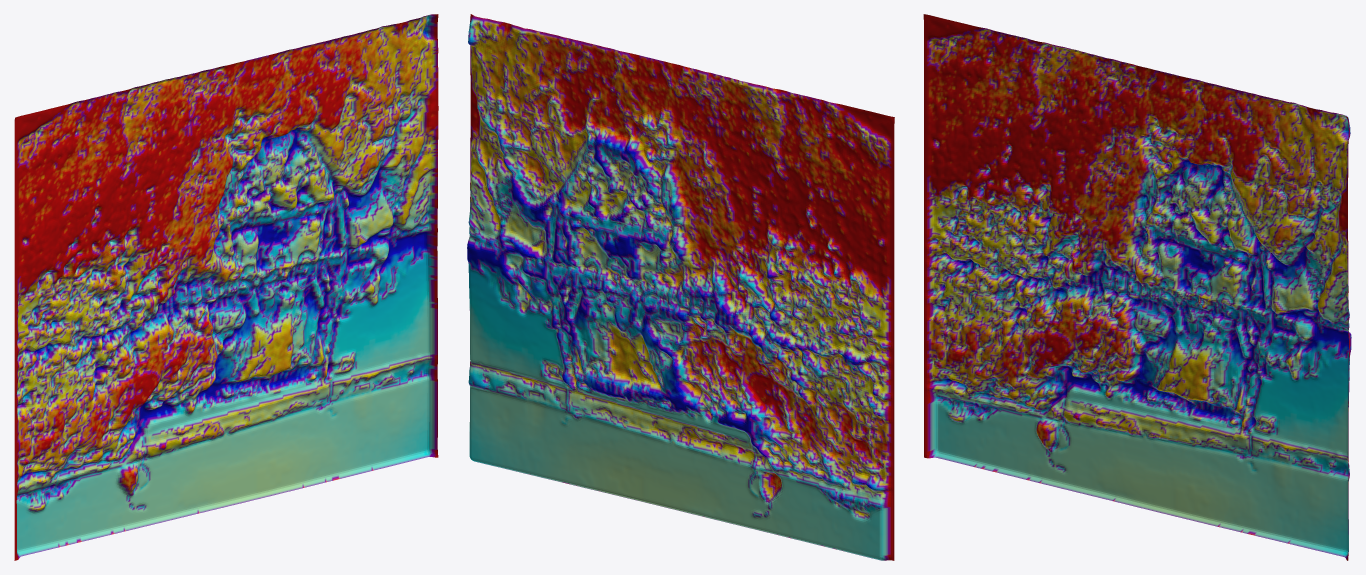
3 views of the same model, side by side, from view 1: azimuth 30°, elevation 25°; view 2: azimuth 150°, elevation 25°; view 3: azimuth 330°, elevation 25° (orthographic).
Visible parts, largest first — view 1: world; view 2: world; view 3: world.
Boxes of the visible parts, box(x1,y1,x2,y2) form: world: box(14, 14, 438, 560); world: box(467, 14, 894, 560); world: box(923, 14, 1351, 560).
Bounding box in the file's own units: 299 × 299 × 12.
